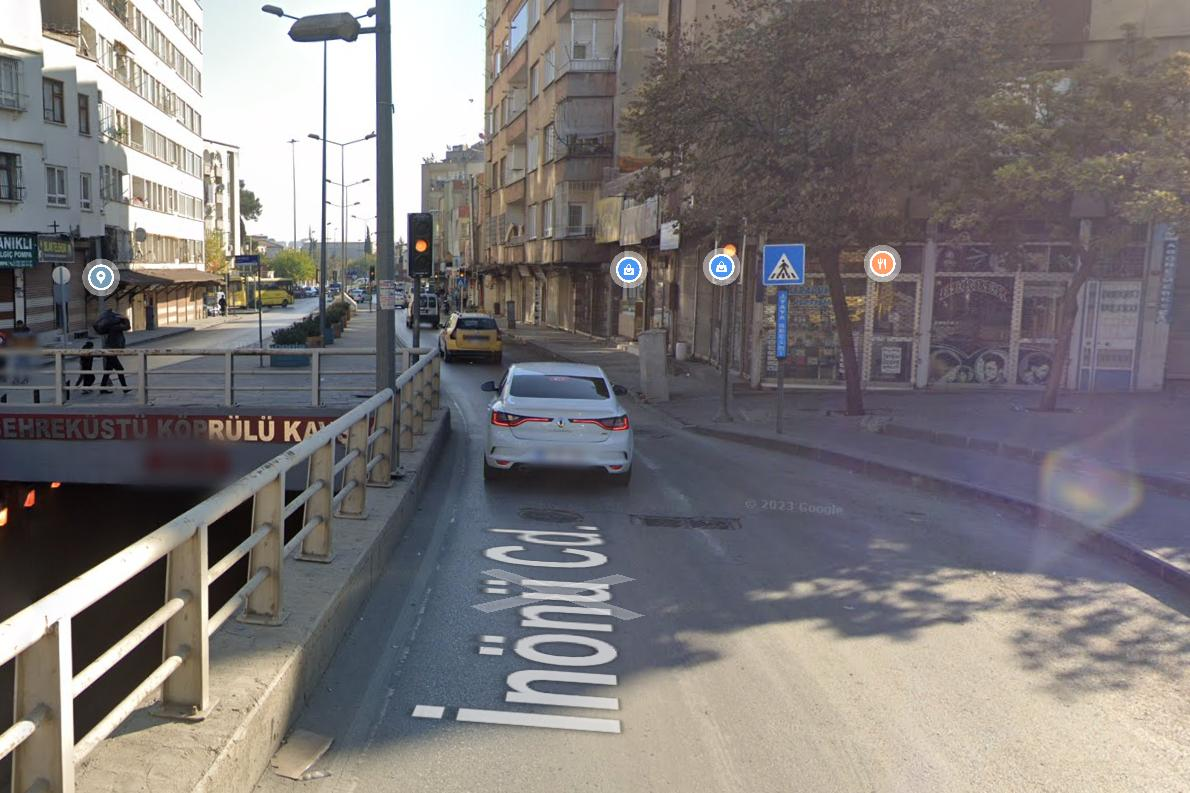yellowlight: (409, 213, 432, 273)
